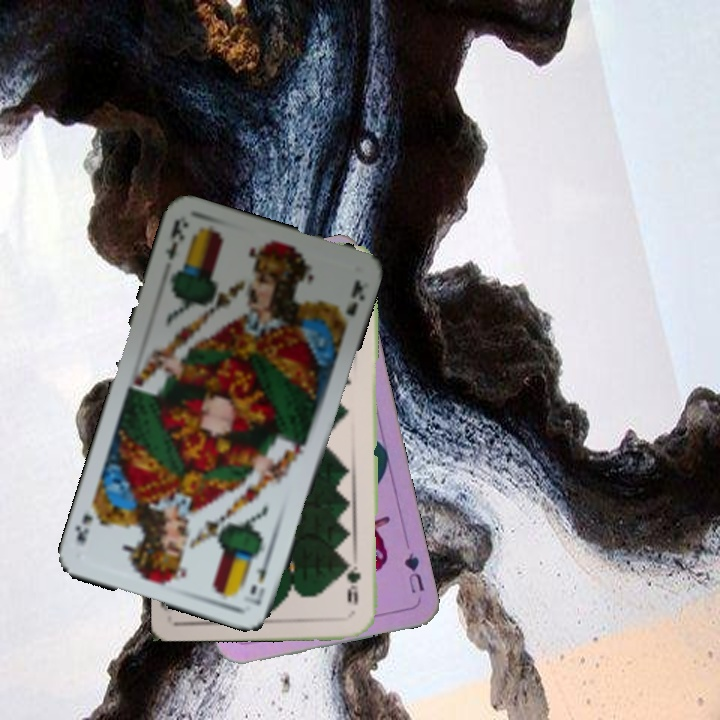EK: (244, 548, 275, 608), (160, 216, 187, 263)
G9: (344, 556, 364, 607)
GU: (400, 549, 427, 596)
